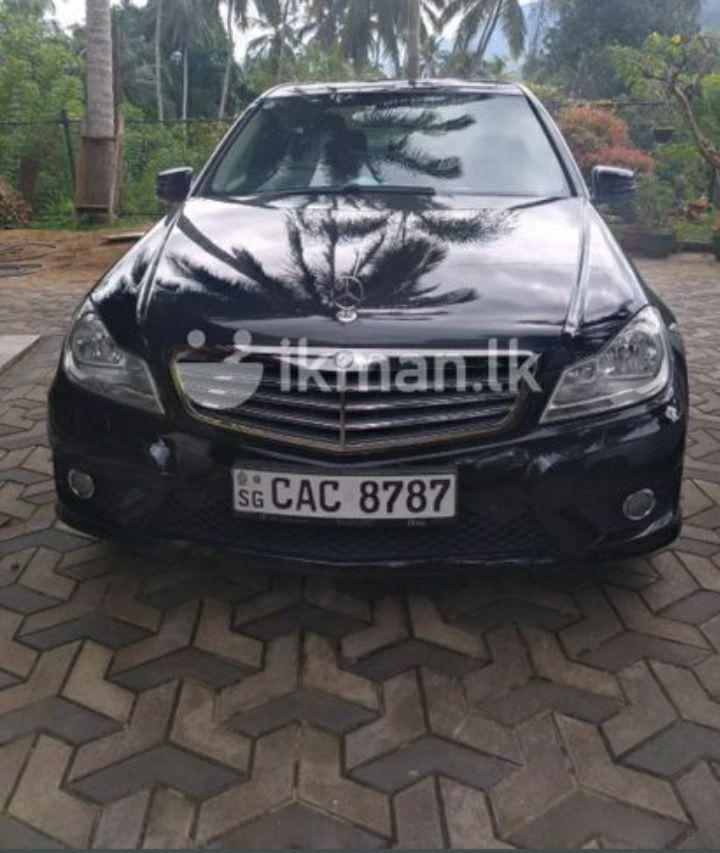license-plate: (231, 467, 456, 517)
